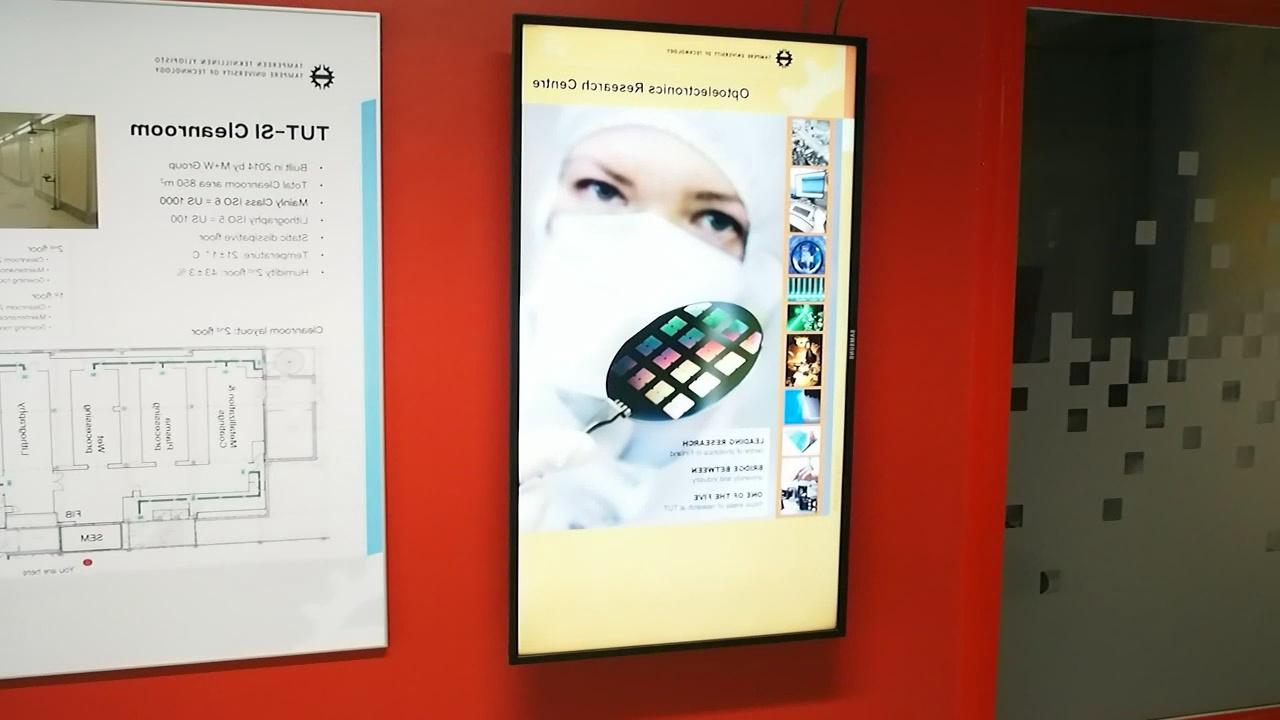screen: (507, 8, 873, 674)
